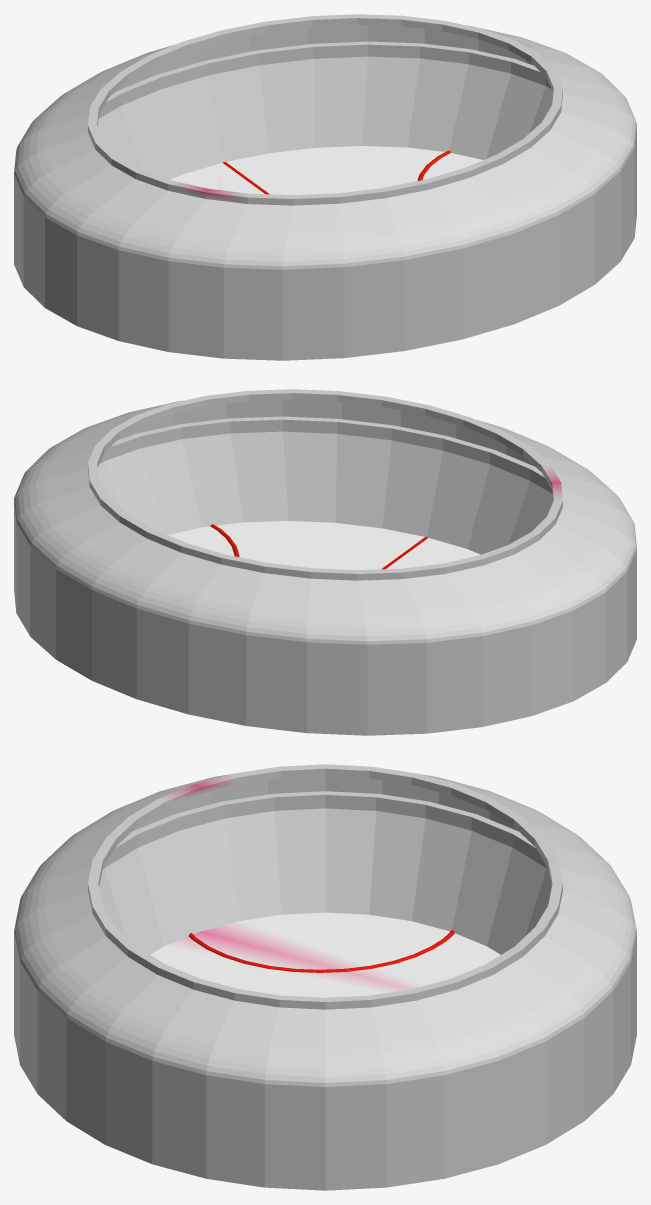
Rendered from battle arena.fbx.
3 views of the same model, one above another, from view 1: azimuth 30°, elevation 25°; view 2: azimuth 150°, elevation 25°; view 3: azimuth 270°, elevation 25° (orthographic). The views are drawn at different scales.
Parts seen in each view (by area): view 1: Cylinder, Cylinder.001; view 2: Cylinder, Cylinder.001; view 3: Cylinder, Cylinder.001, Torus.001.
Part boxes in pixels (bbox=[...]): Cylinder: bbox=[14, 14, 636, 360]; Cylinder.001: bbox=[170, 146, 482, 195]; Cylinder: bbox=[14, 389, 636, 735]; Cylinder.001: bbox=[168, 521, 480, 570]; Cylinder: bbox=[14, 764, 636, 1190]; Cylinder.001: bbox=[150, 912, 500, 997]; Torus.001: bbox=[189, 930, 454, 972].
Bounding box in the file's own units: 237 × 55.52 × 200.
